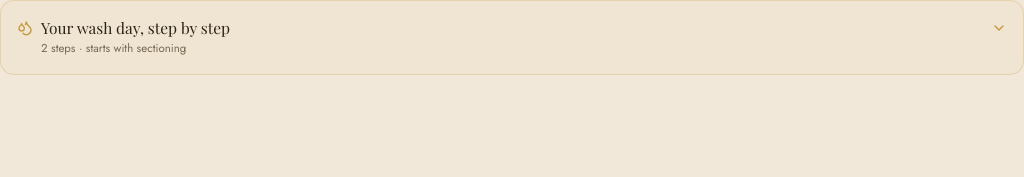
Test case: wash day steps card › level 1 shows titles only
Click the button "Your wash day, step by step 2 steps · starts with sectioning" at {"x": 136, "y": 28}, box [17, 17, 1007, 58]
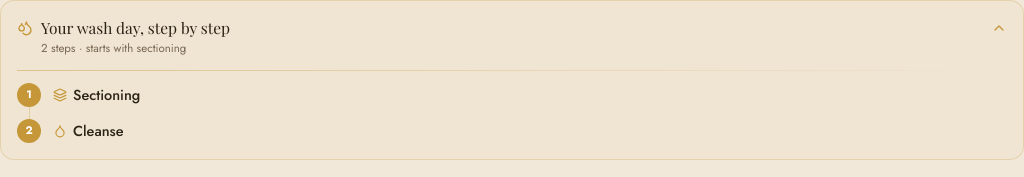
Expected: the text "Sectioning" is shown, [73, 84, 140, 105]
